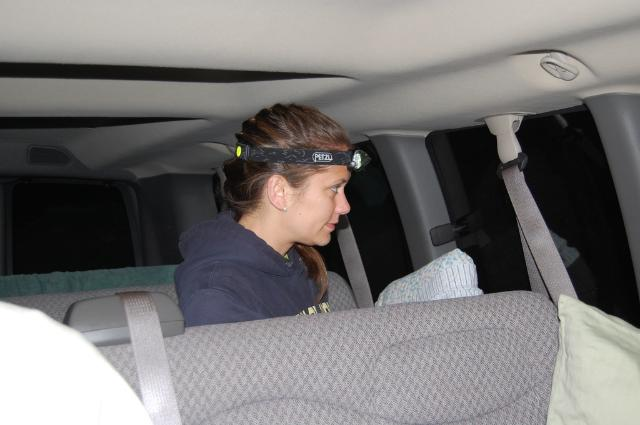Seatbelt: (116, 291, 182, 425)
